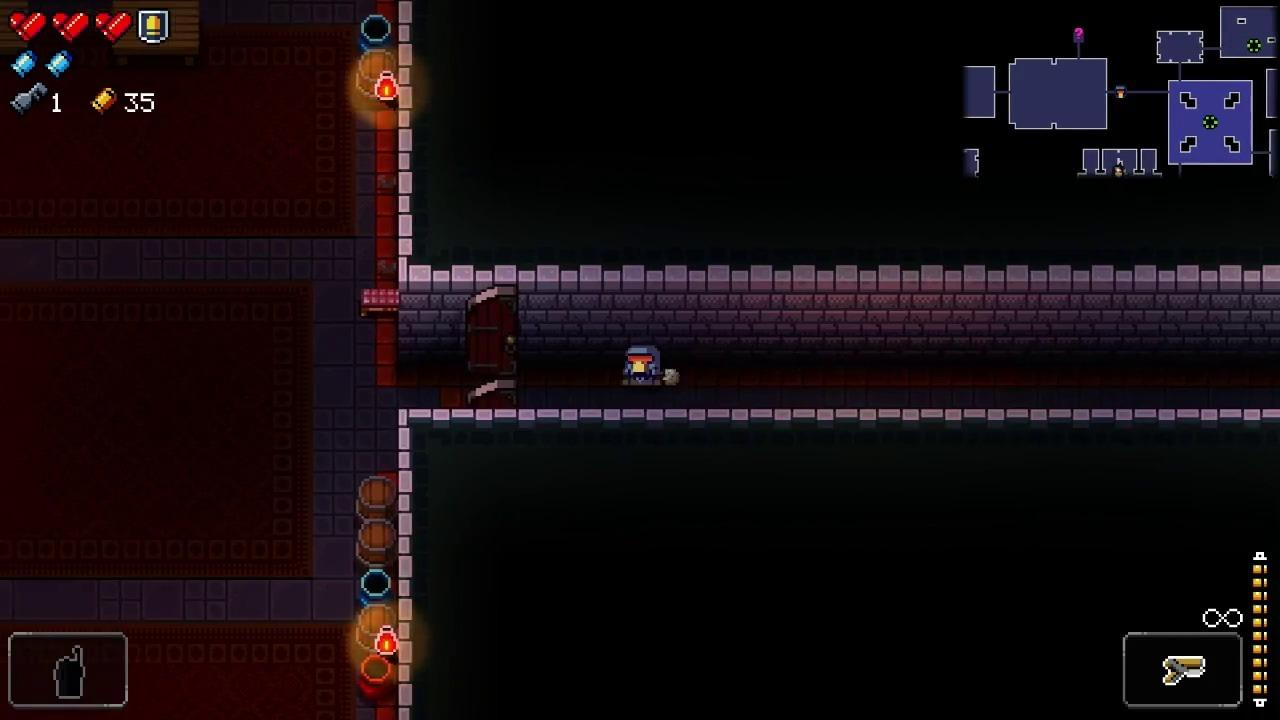player: (623, 346, 663, 387)
unlocked_door: (466, 283, 517, 410)
